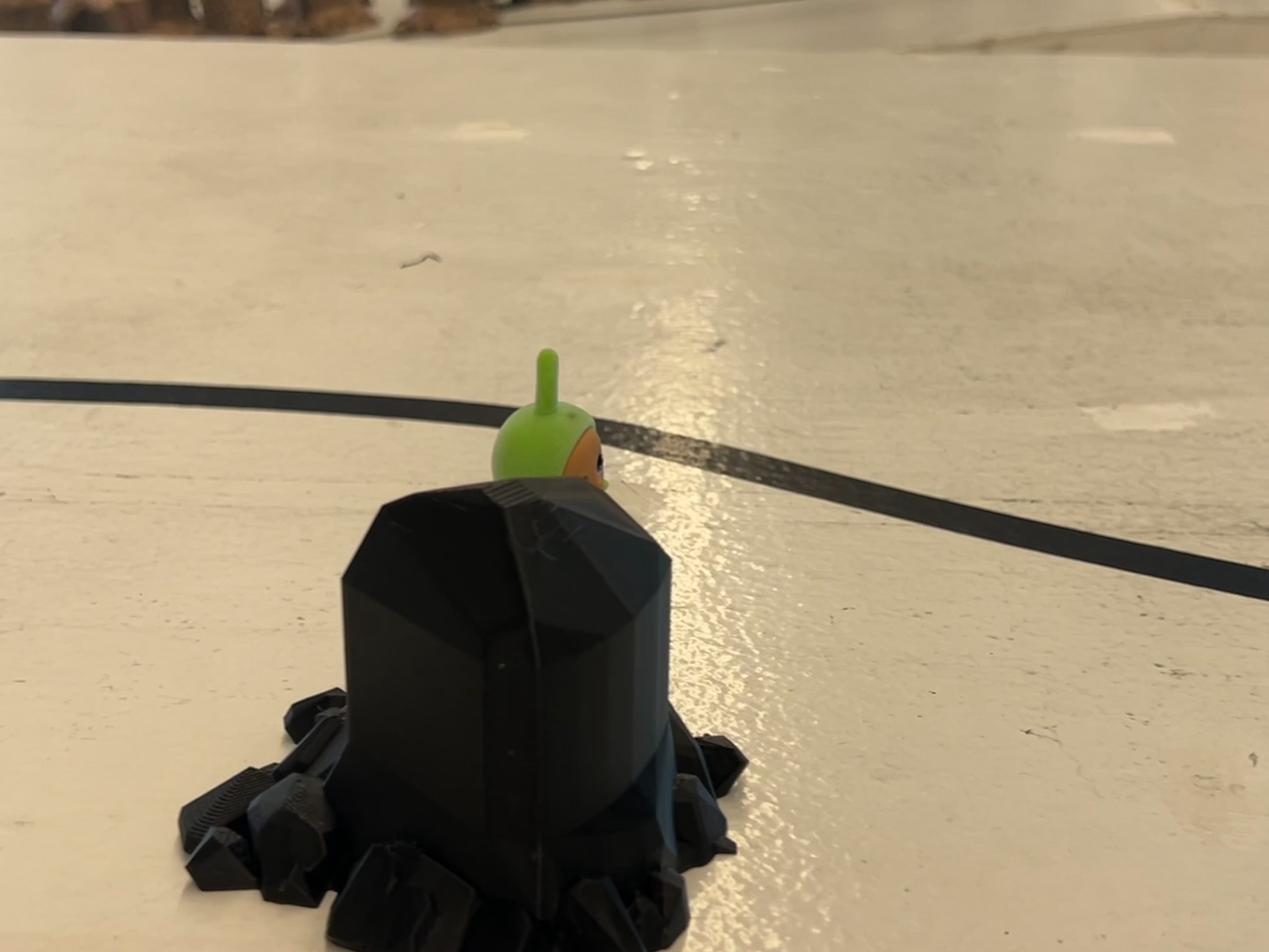teletubby: (491, 348, 607, 489)
